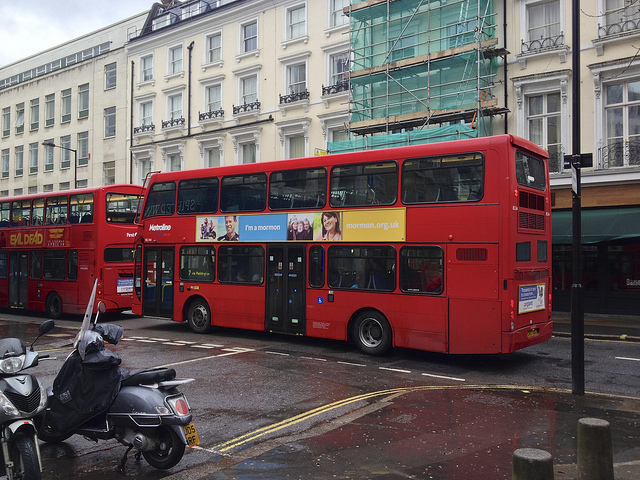Bike: (54, 296, 202, 480)
Bus: (135, 136, 559, 356), (1, 189, 133, 318)
